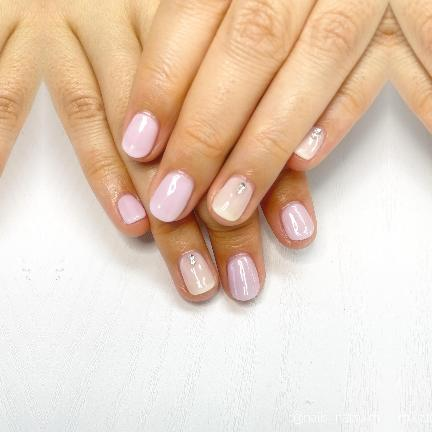Nail: (149, 170, 194, 222), (211, 175, 253, 221), (121, 111, 158, 158), (226, 253, 259, 300), (179, 251, 214, 295), (279, 202, 313, 241), (293, 127, 324, 159), (117, 194, 145, 224)
